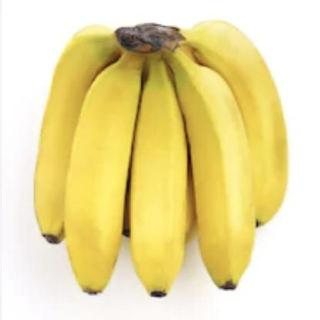banana: (186, 17, 292, 229), (32, 24, 119, 244), (174, 65, 257, 292), (64, 63, 144, 297), (127, 74, 191, 304)
